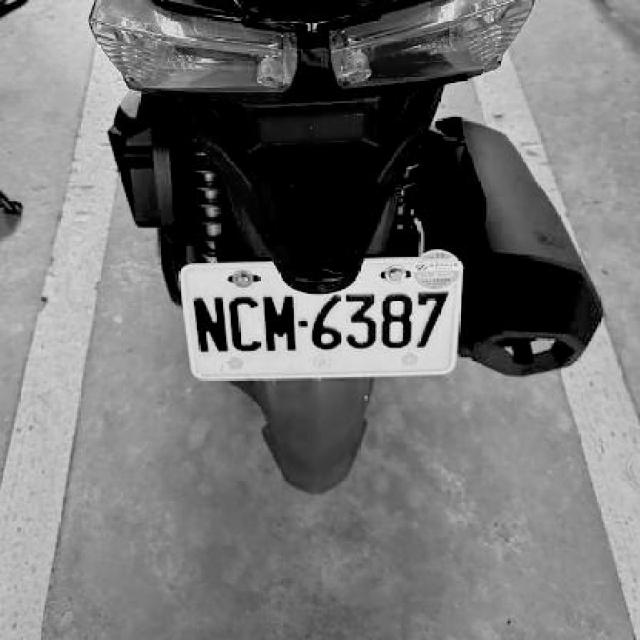-: (298, 318, 311, 329)
3: (341, 288, 377, 352)
6: (309, 292, 345, 356)
7: (412, 290, 448, 356)
8: (380, 289, 415, 354)
C: (228, 294, 260, 355)
M: (263, 291, 299, 355)
N: (192, 295, 230, 357)
